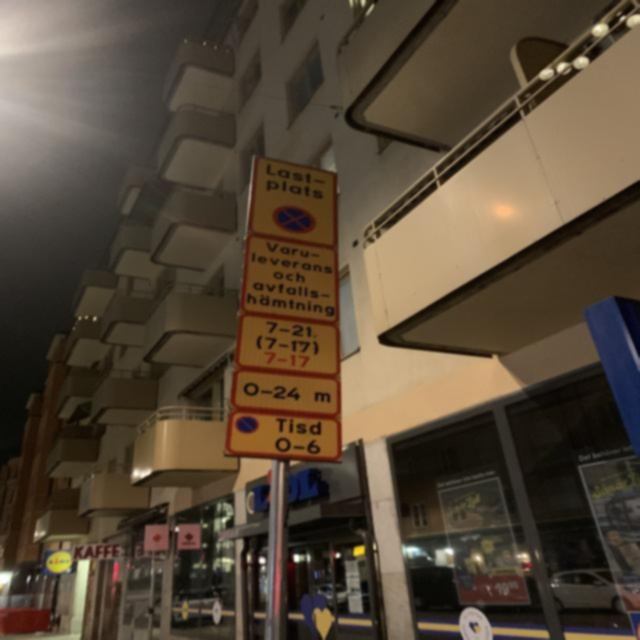lastplats: (246, 153, 342, 251)
